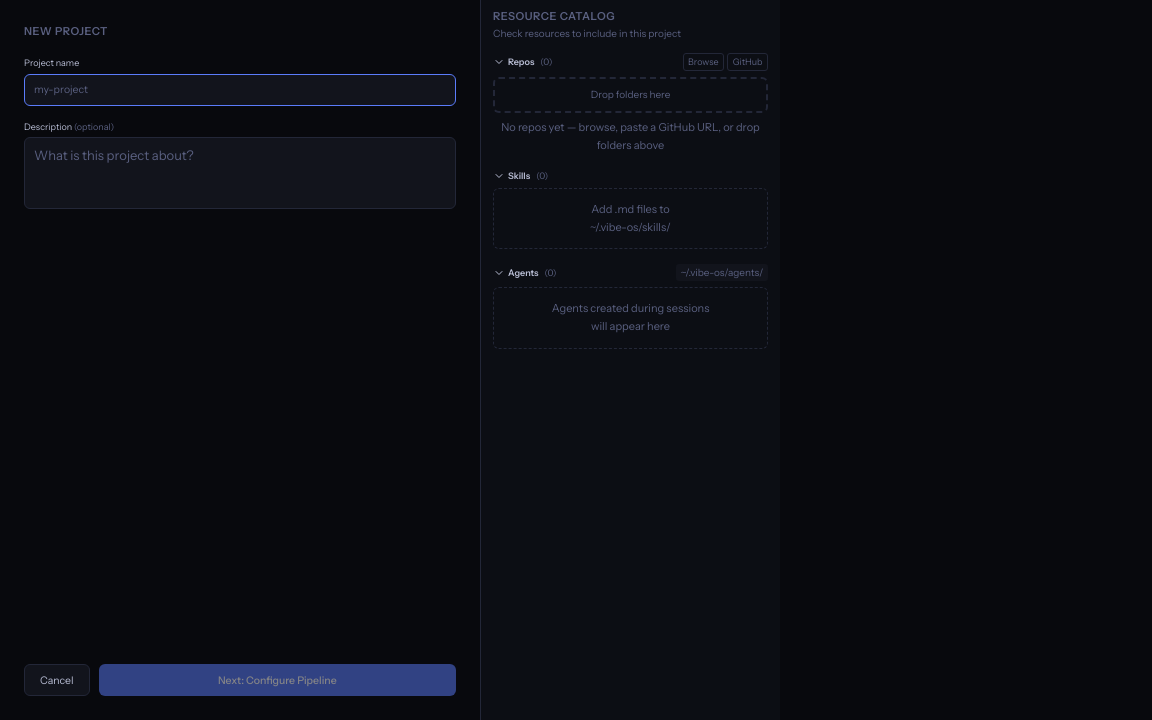
Test: ProjectSetupView integration › Create project › shows 'Creating...' text while submitting
Go to step 2
Step 1. Type "loading-test" into the field with placeholder "my-project" → (240, 90), box [24,74,456,106]
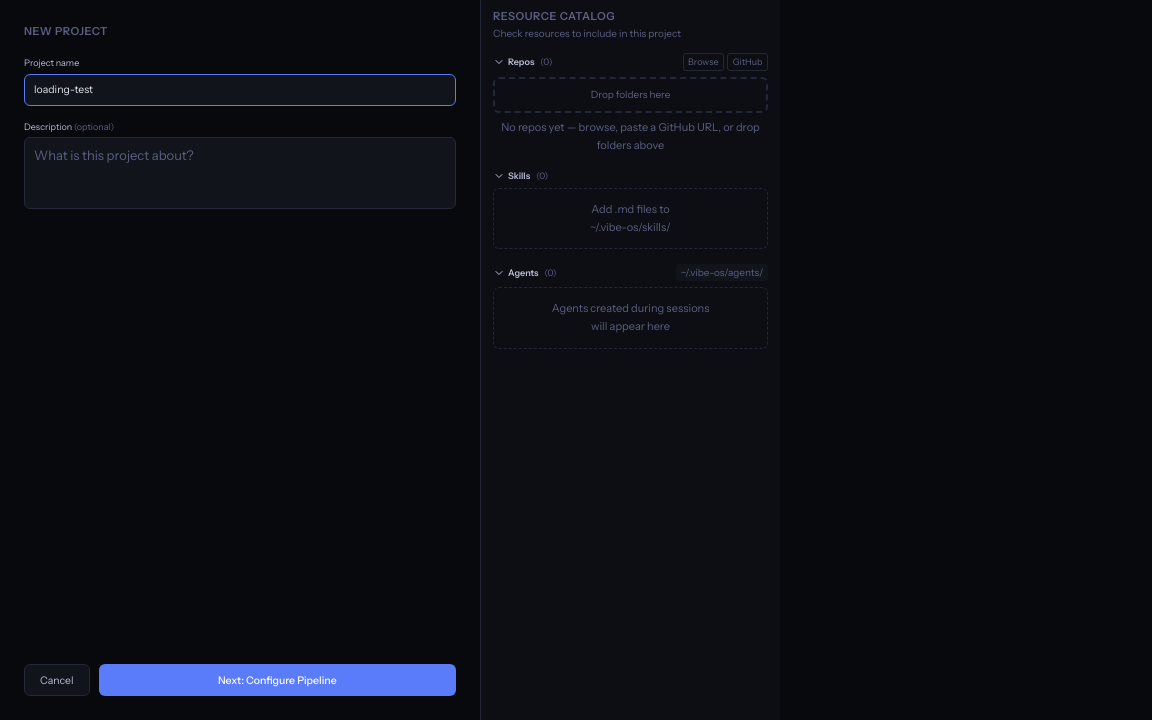
Step 2. Click the button "Next: Configure Pipeline" → (277, 680), box [98,664,456,696]
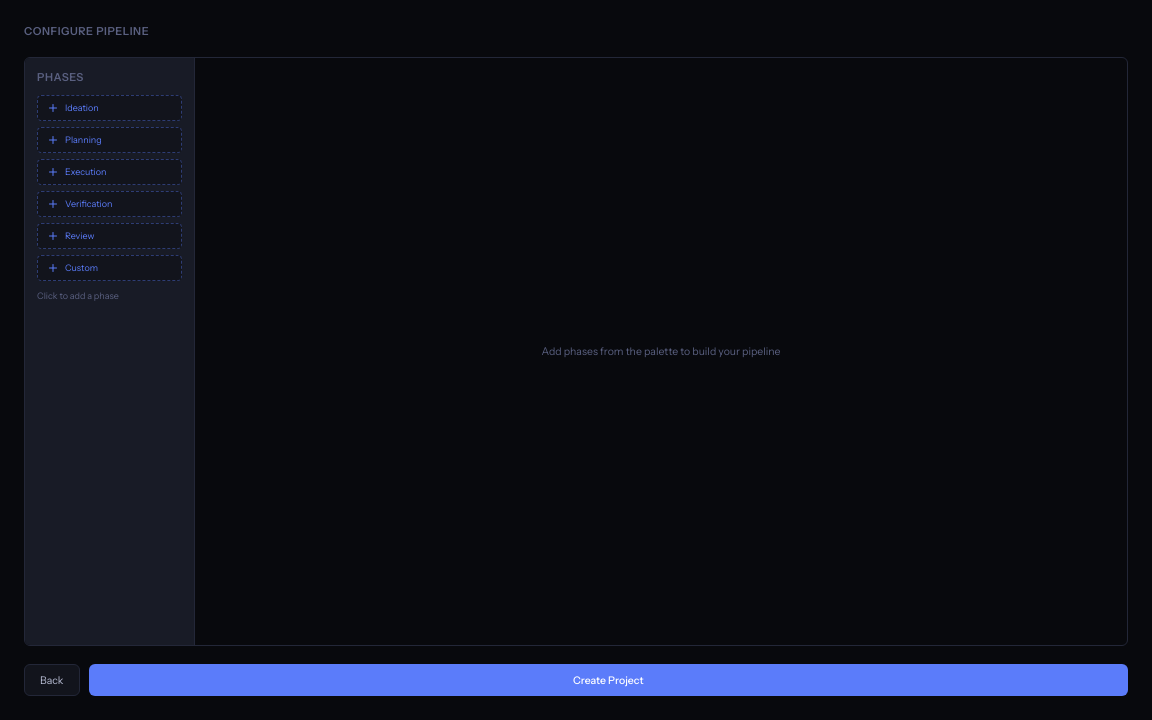
Click create
Step 3. Click the button "Create Project" → (608, 680), box [88,664,1128,696]
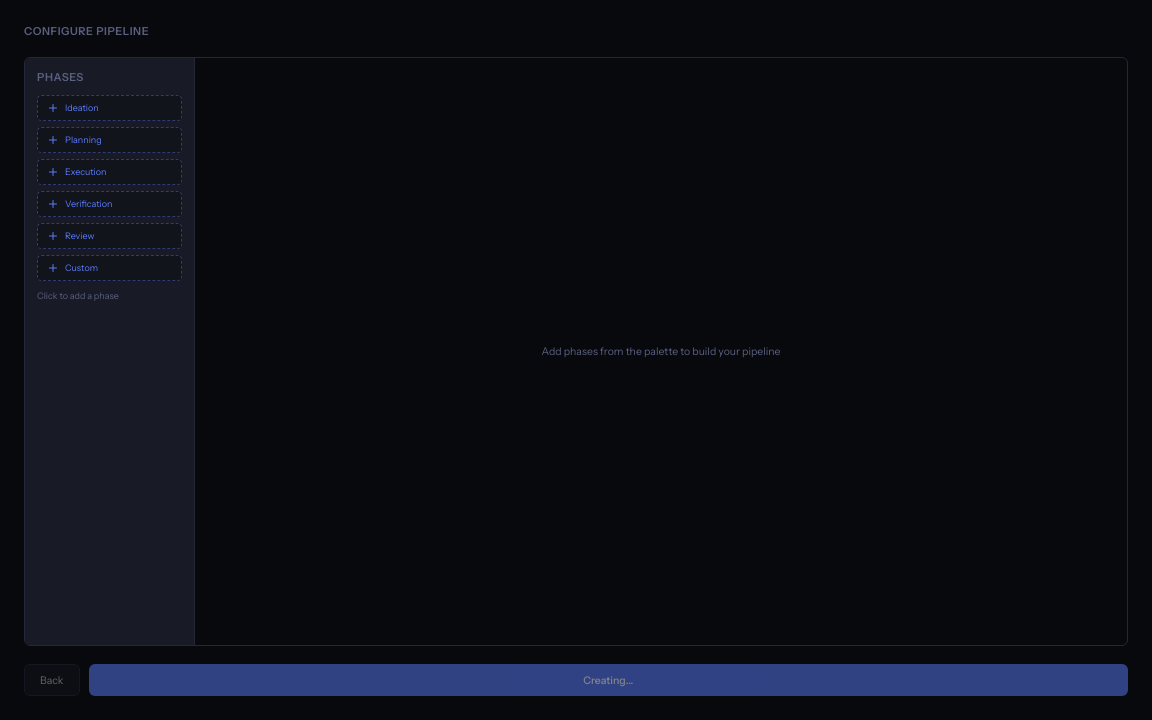
Now the button "Creating..." is shown, box [88,664,1128,696]
